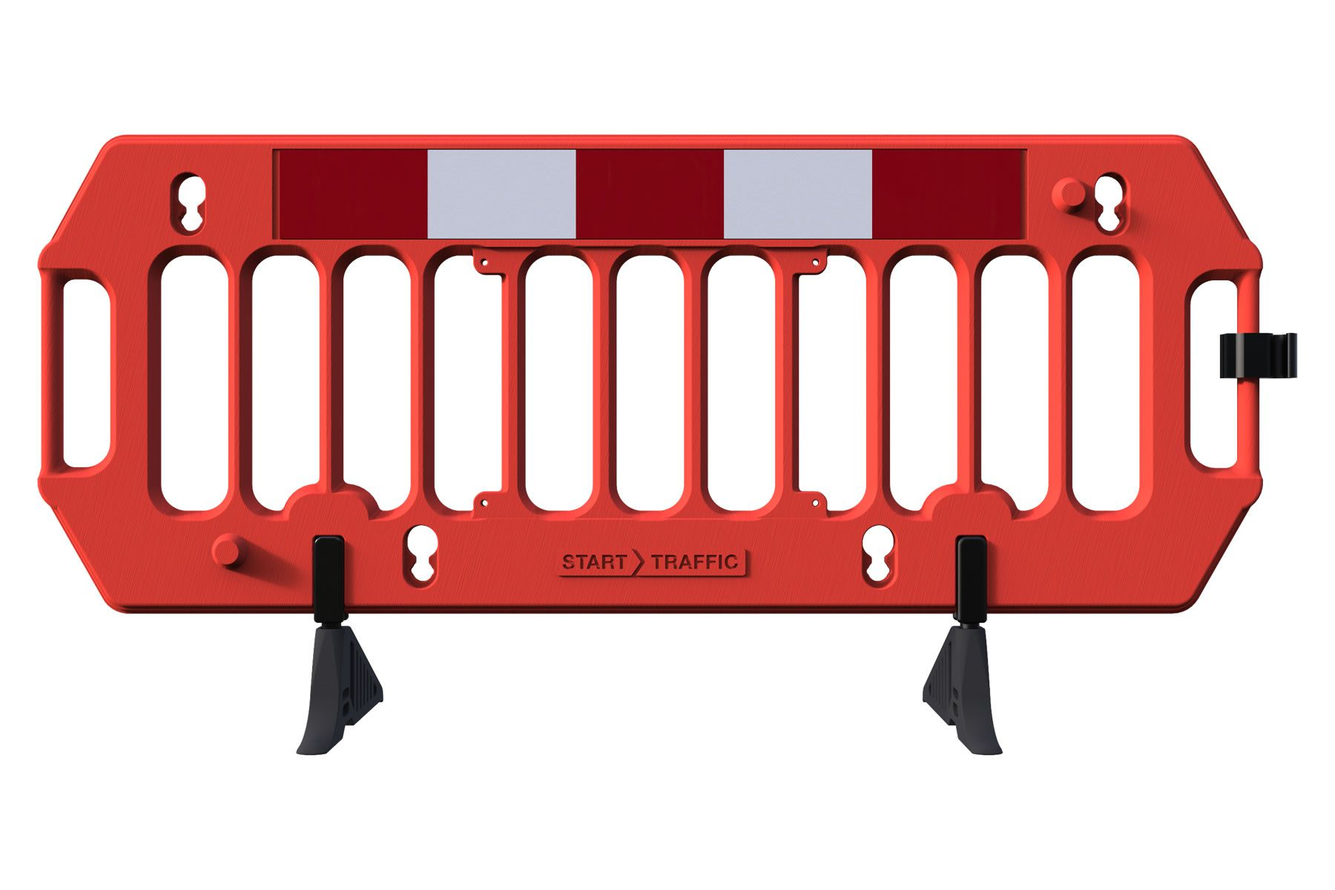Barrier: (18, 108, 1303, 765)
